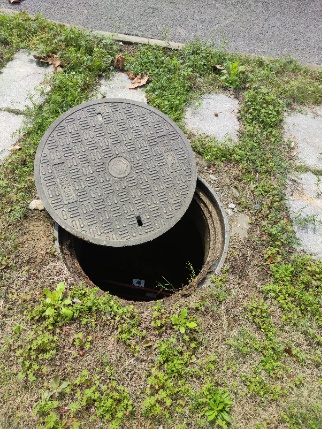uncovered: (34, 98, 229, 307)
